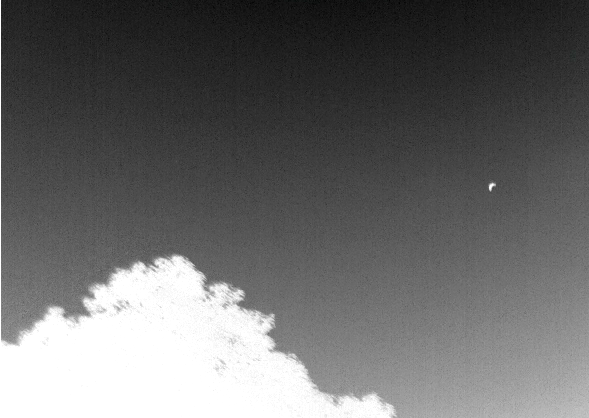dim target: (487, 181, 498, 193)
